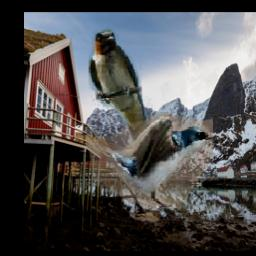Swallow: (86, 113, 213, 209), (89, 27, 160, 151)
